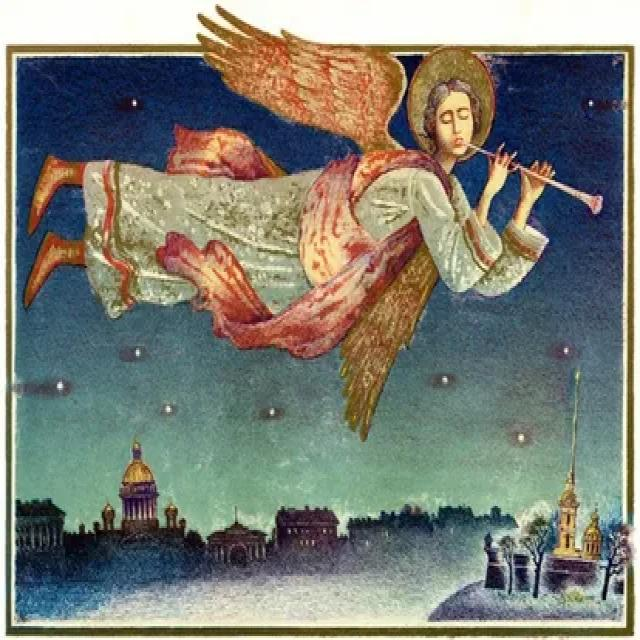angel: (20, 0, 617, 412)
